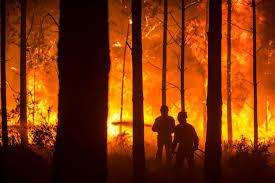fire: (109, 0, 274, 149), (1, 6, 57, 143)
